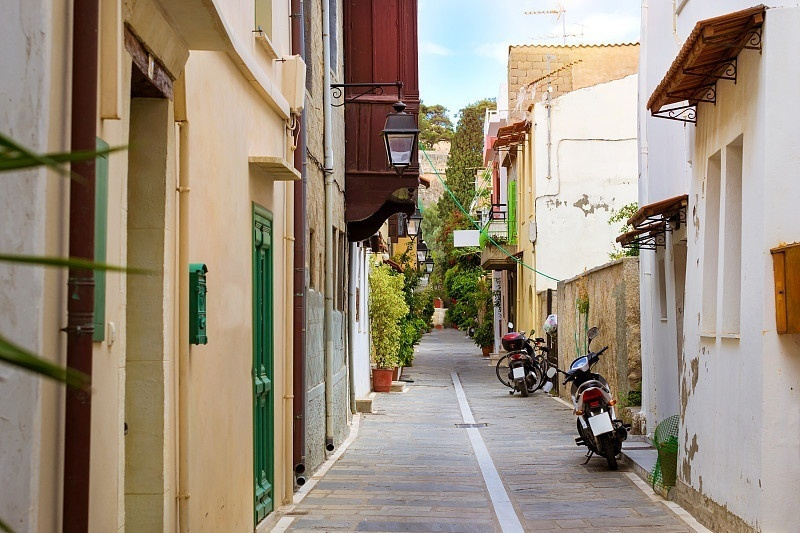non-vehicle: (559, 341, 623, 458), (493, 323, 551, 396)
